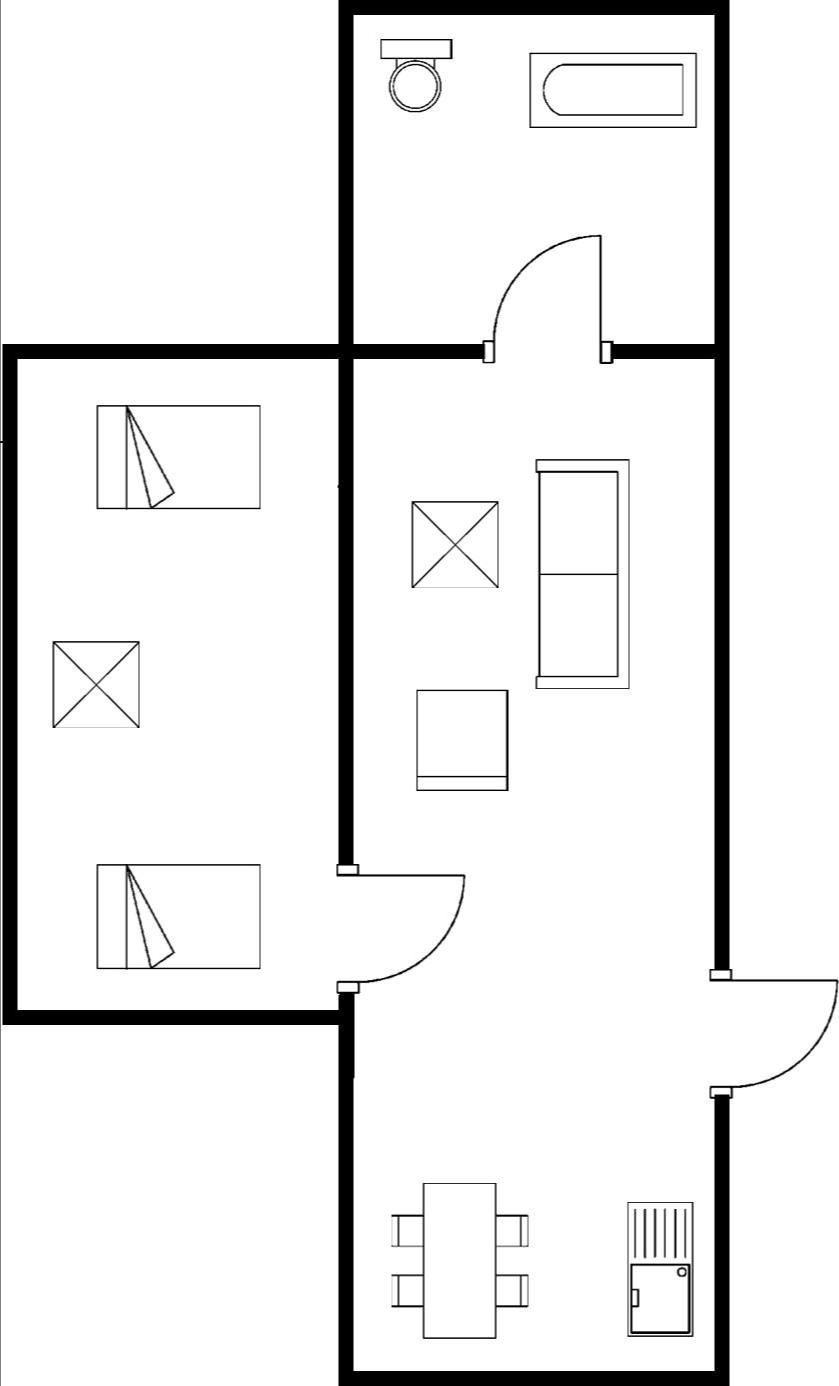bed: (88, 397, 269, 517), (90, 858, 269, 978)
dining_table: (380, 1172, 541, 1344)
sink: (614, 1195, 707, 1345)
sofa: (527, 452, 638, 697)
toilet: (376, 30, 461, 118)
tub: (521, 47, 702, 137)
